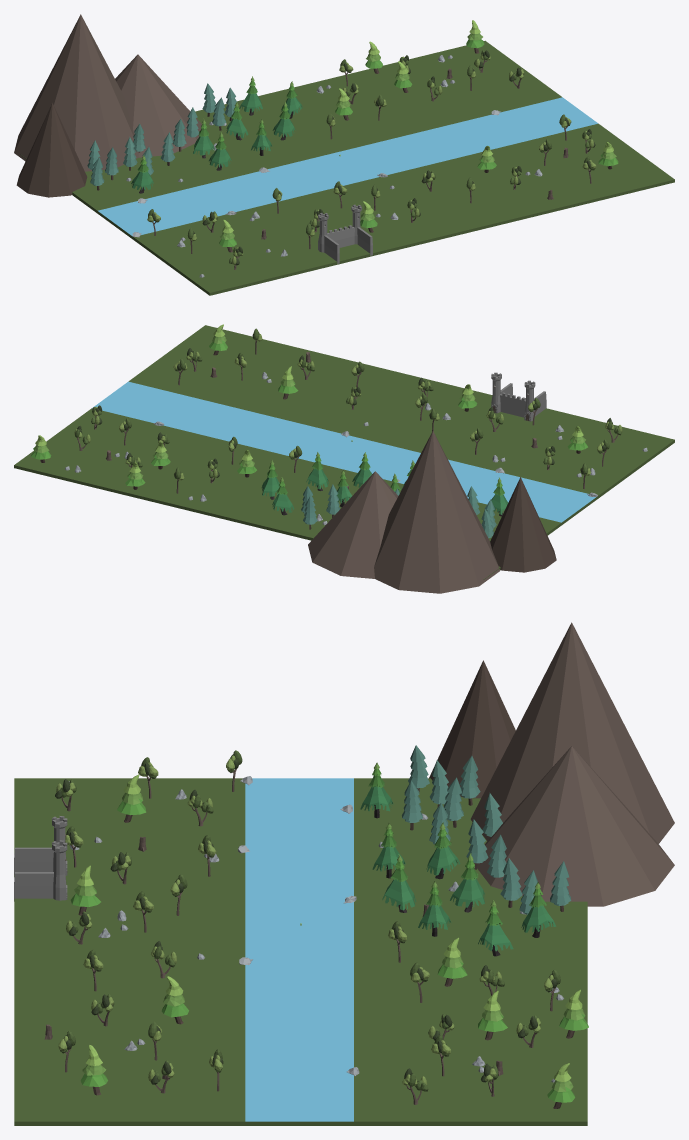
The model's file is 2_2_Terrain_Greybox.fbx.
3 renders of one model, top to bottom at view 1: azimuth 30°, elevation 25°; view 2: azimuth 150°, elevation 25°; view 3: azimuth 270°, elevation 25°, orthographic. The views are drawn at different scales.
Visible parts, largest first — view 1: terrain; view 2: terrain; view 3: terrain.
Part boxes in pixels (x1,y1,x2,y2): terrain: (14,14,674,295); terrain: (14,324,674,593); terrain: (14,622,674,1125).
Size of the model in its own units: 25365 by 6496 by 19308.
